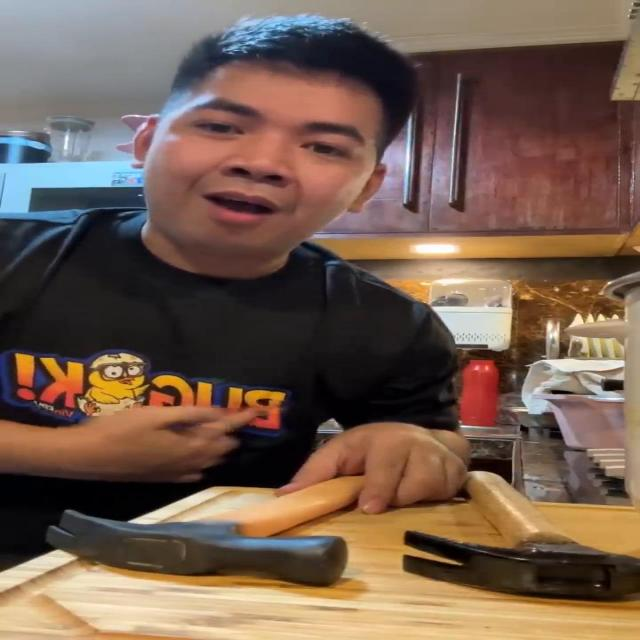hammer: (44, 470, 368, 588), (401, 469, 640, 601)
